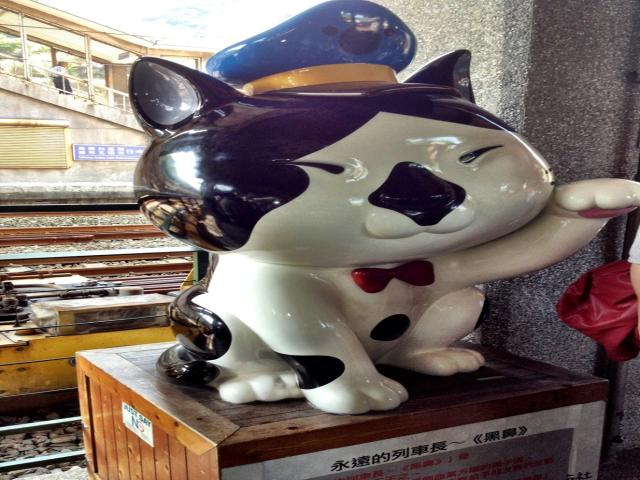Cat: (122, 50, 639, 414)
